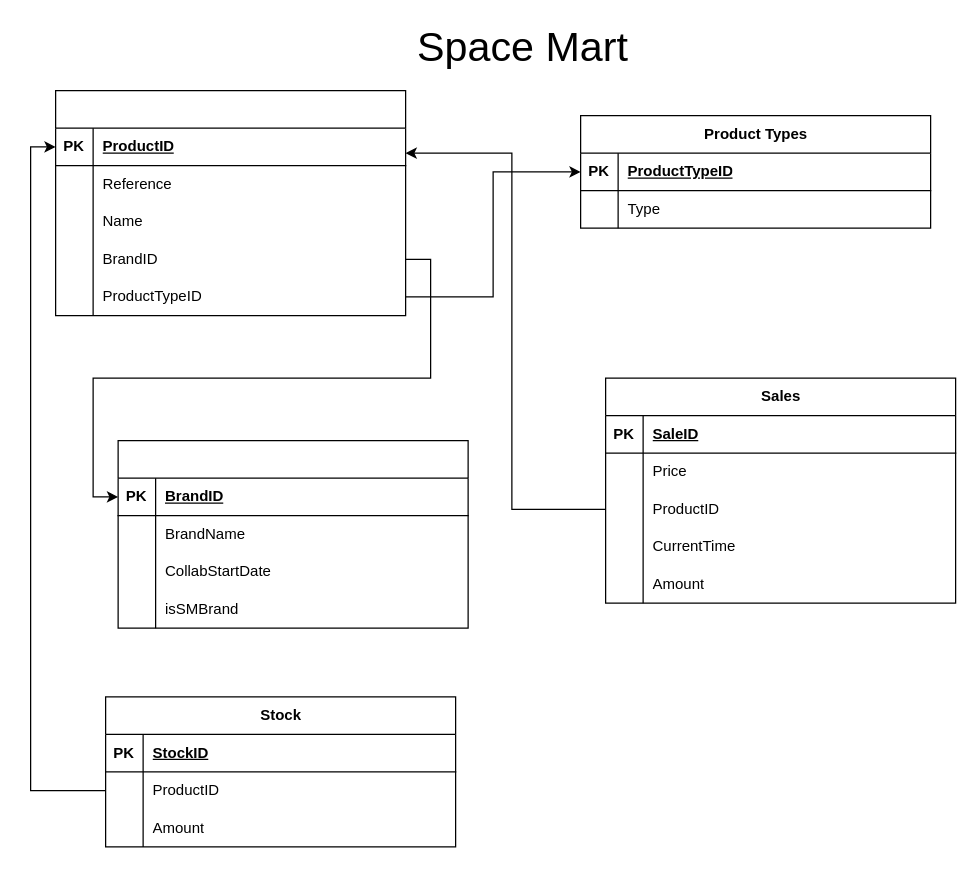
Image size: 978x869. Some labels were removed from this diagram. The shapes that lost their labels are listed below. From the top down, each one's box as (x1, y1, x2, y2) in pixels, then its label:
(54, 89, 406, 316): Products
(117, 439, 468, 628): Brands
